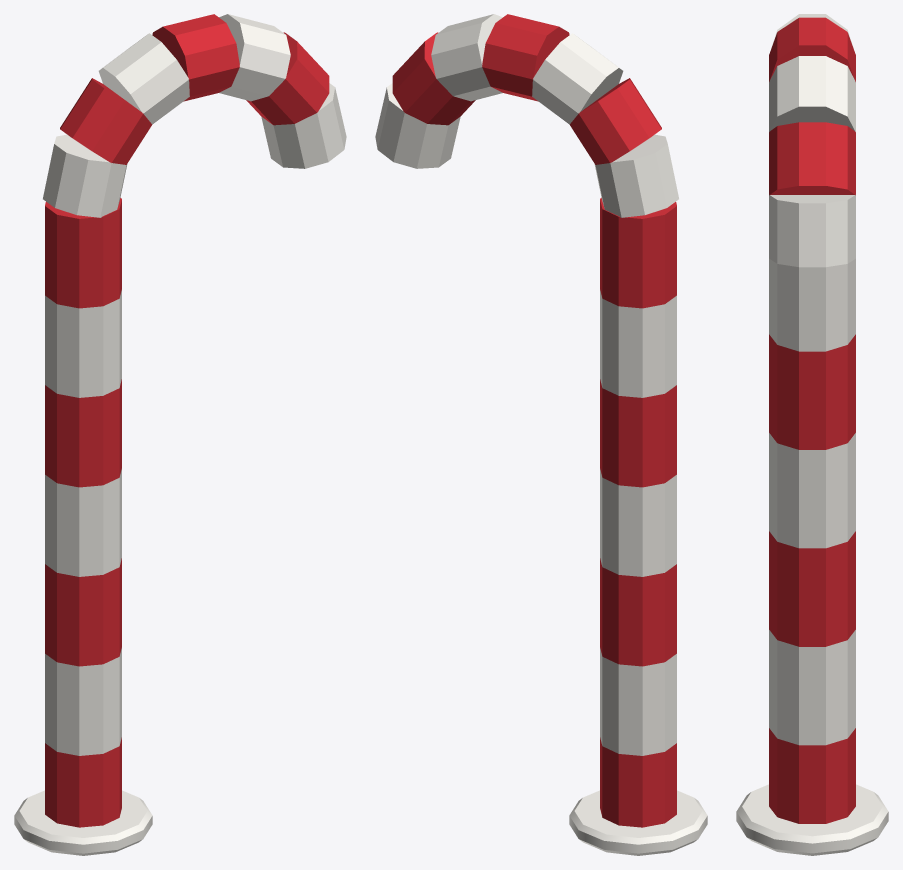
File: prop_candy_cane.glb
The picture shows the model from 3 angles, left to right: view 1: azimuth 30°, elevation 25°; view 2: azimuth 150°, elevation 25°; view 3: azimuth 270°, elevation 25°; orthographic projection. The views are drawn at different scales.
Parts seen in each view (by area): view 1: candy_cane; view 2: candy_cane; view 3: candy_cane.
Boxes of the visible parts, x1,y1,x2,y2 form: candy_cane: [14, 14, 346, 855]; candy_cane: [375, 14, 707, 855]; candy_cane: [736, 14, 888, 855].
Size of the model in its own units: 0.741 by 1.74 by 0.28.
1 material, 1 textured.
